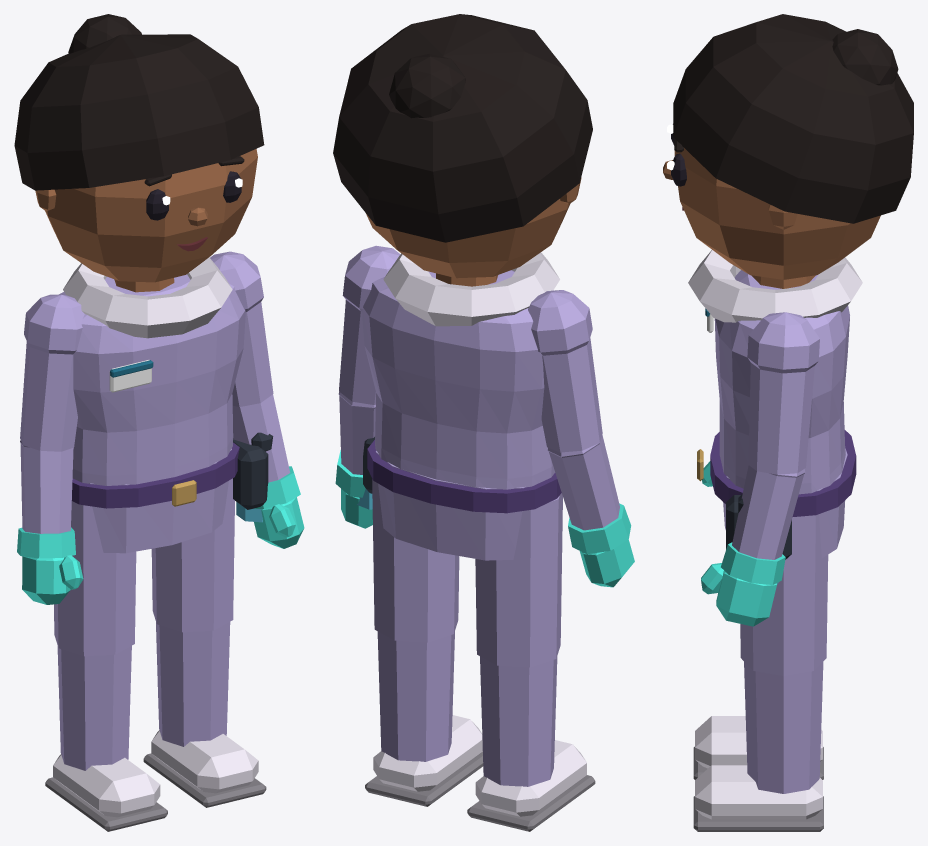
The model's file is rei_aby.glb.
3 renders of one model, left to right at view 1: azimuth 30°, elevation 25°; view 2: azimuth 150°, elevation 25°; view 3: azimuth 270°, elevation 25°, orthographic. The views are drawn at different scales.
Visible parts, largest first — view 1: haare, torso, kopf, bein_r, bein_l, arm_r, arm_l, kragen, schuh_l, schuh_r, becken, gürtel (+5 smaller); view 2: haare, torso, bein_r, bein_l, arm_r, arm_l, kragen, becken, kopf, schuh_r, schuh_l, gürtel (+3 smaller); view 3: haare, bein_l, arm_l, kopf, torso, schuh_l, kragen, gürtel, hand_l, schuh_r, becken, accessoire_sprayholster (+2 smaller).
Boxes of the visible parts, box(x1,y1,x2,y2) form: haare: box(14, 14, 264, 190); torso: box(59, 274, 245, 485); kopf: box(35, 149, 257, 282); bein_r: box(54, 501, 136, 770); bein_l: box(151, 478, 234, 746); arm_r: box(17, 294, 84, 558); arm_l: box(210, 251, 300, 508); kragen: box(63, 257, 232, 338); schuh_l: box(143, 730, 266, 807); schuh_r: box(45, 754, 167, 831); becken: box(89, 448, 231, 553); gürtel: box(71, 442, 239, 508); haare: box(333, 14, 592, 242); torso: box(362, 270, 555, 489); bein_r: box(475, 493, 562, 786); bein_l: box(372, 479, 459, 761); arm_r: box(528, 290, 631, 554); arm_l: box(335, 245, 400, 497); kragen: box(383, 252, 559, 326); becken: box(376, 451, 525, 560); kopf: box(366, 177, 581, 278); schuh_r: box(467, 740, 595, 831); schuh_l: box(365, 715, 483, 806); gürtel: box(367, 440, 561, 513); haare: box(673, 14, 913, 223); bein_l: box(740, 514, 828, 793); arm_l: box(721, 312, 819, 584); kopf: box(674, 148, 880, 279); torso: box(714, 270, 849, 494); schuh_l: box(693, 765, 823, 831); kragen: box(688, 250, 862, 322); gürtel: box(697, 430, 856, 516); hand_l: box(701, 563, 776, 626); schuh_r: box(693, 716, 823, 779); becken: box(723, 448, 847, 558); accessoire_sprayholster: box(726, 494, 791, 584).
Size of the model in its own units: 0.00962 by 0.0244 by 0.0073.
